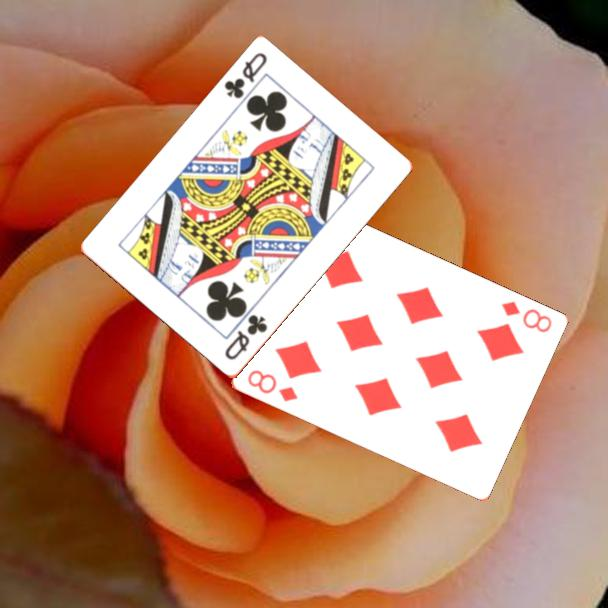c12: (220, 49, 270, 102), (221, 311, 270, 363)
d08: (243, 366, 300, 405), (497, 298, 554, 336)
